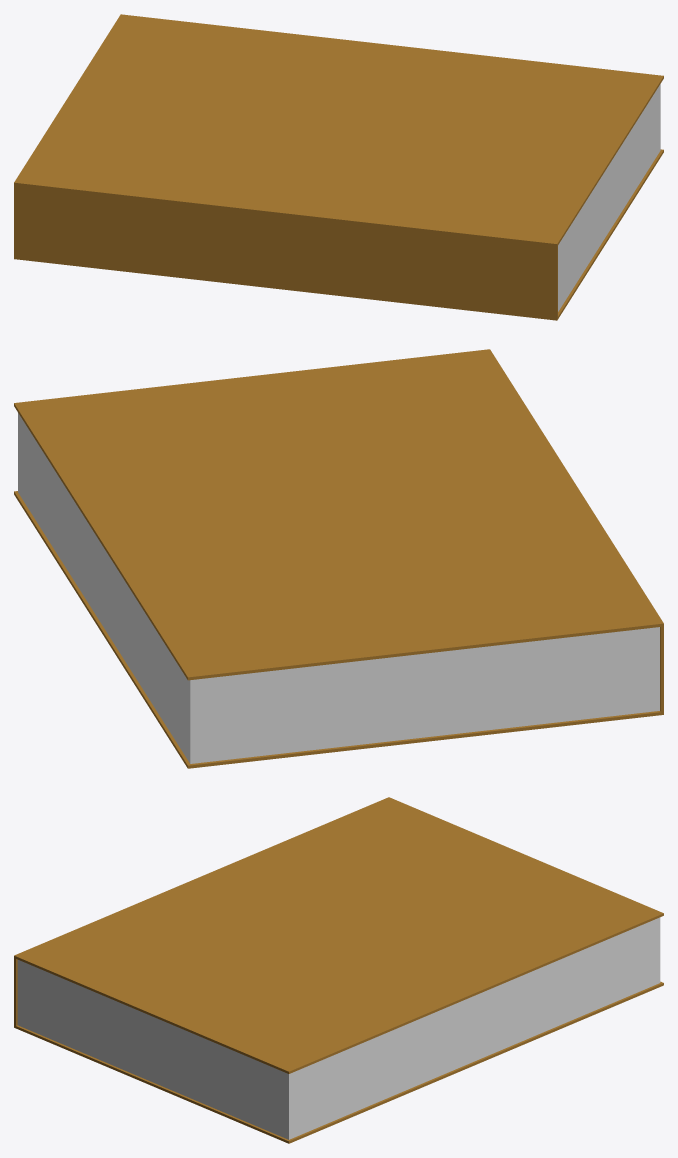
The model's file is buku 5_Scene.fbx.
3 renders of one model, top to bottom at view 1: azimuth 30°, elevation 25°; view 2: azimuth 150°, elevation 25°; view 3: azimuth 270°, elevation 25°, orthographic. The views are drawn at different scales.
Visible parts, largest first — view 1: Book2; view 2: Book2; view 3: Book2.
Boxes of the visible parts, <box> form: Book2: <box>14,14,663,320</box>; Book2: <box>14,349,663,768</box>; Book2: <box>14,797,663,1143</box>.
Bounding box in the file's own units: 54.81 × 6.71 × 54.81.
